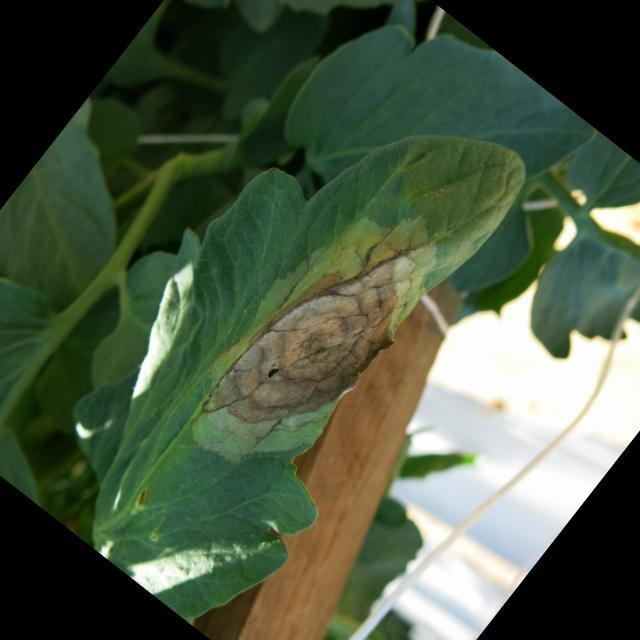Tomato late blight leaf: (0, 6, 577, 640)
